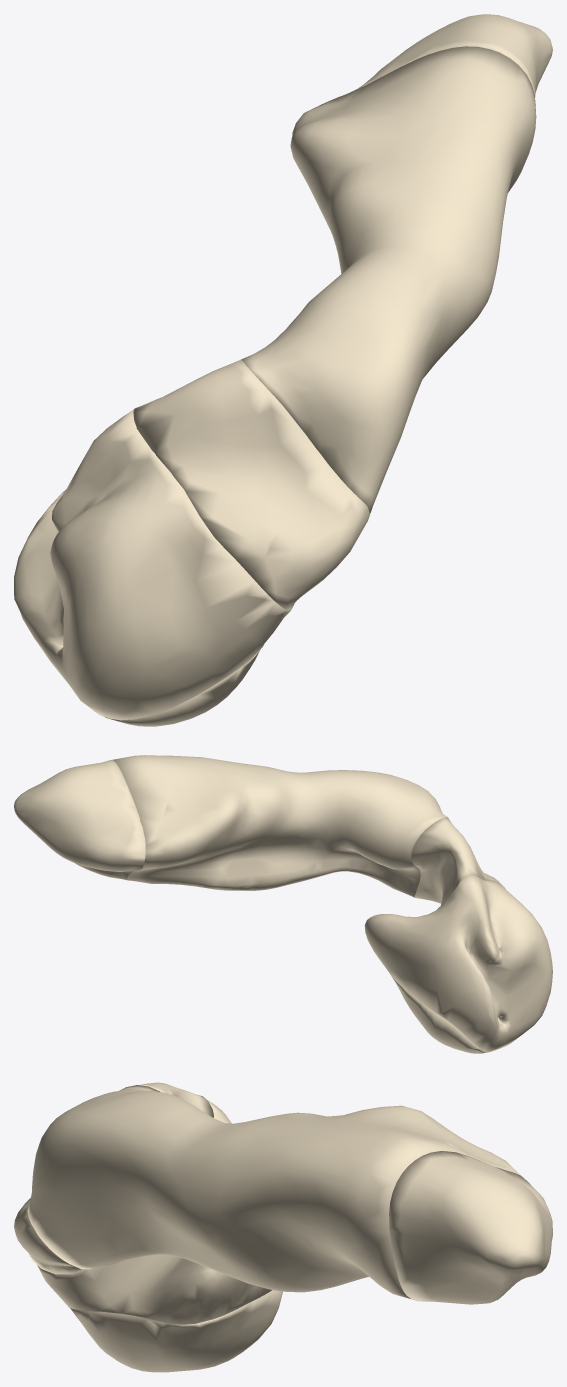
File: vh_m_pancreas-40.glb
3 views of the same model, one above another, from view 1: azimuth 30°, elevation 25°; view 2: azimuth 150°, elevation 25°; view 3: azimuth 270°, elevation 25° (orthographic). The views are drawn at different scales.
Visible parts, largest first — view 1: VH_M_body_of_pancreas, VH_M_head_of_pancreas, VH_M_neck_of_pancreas, VH_M_tail_of_pancreas, VH_M_uncinate_process_of_the_pancreas; view 2: VH_M_body_of_pancreas, VH_M_head_of_pancreas, VH_M_tail_of_pancreas, VH_M_neck_of_pancreas, VH_M_uncinate_process_of_the_pancreas; view 3: VH_M_body_of_pancreas, VH_M_tail_of_pancreas, VH_M_head_of_pancreas, VH_M_uncinate_process_of_the_pancreas, VH_M_neck_of_pancreas.
Part boxes in pixels (bbox=[...]): VH_M_body_of_pancreas: bbox=[241, 46, 536, 520]; VH_M_head_of_pancreas: bbox=[14, 409, 290, 720]; VH_M_neck_of_pancreas: bbox=[133, 359, 369, 610]; VH_M_tail_of_pancreas: bbox=[323, 14, 552, 103]; VH_M_uncinate_process_of_the_pancreas: bbox=[105, 649, 260, 726]; VH_M_body_of_pancreas: bbox=[112, 755, 447, 897]; VH_M_head_of_pancreas: bbox=[364, 875, 552, 1052]; VH_M_tail_of_pancreas: bbox=[14, 760, 145, 880]; VH_M_neck_of_pancreas: bbox=[411, 817, 502, 905]; VH_M_uncinate_process_of_the_pancreas: bbox=[392, 977, 485, 1053]; VH_M_body_of_pancreas: bbox=[28, 1085, 520, 1301]; VH_M_tail_of_pancreas: bbox=[389, 1151, 552, 1304]; VH_M_head_of_pancreas: bbox=[37, 1095, 271, 1324]; VH_M_uncinate_process_of_the_pancreas: bbox=[70, 1290, 282, 1372]; VH_M_neck_of_pancreas: bbox=[14, 1082, 213, 1274].
Bounding box in the file's own units: 0.1115 × 0.0721 × 0.0836.
